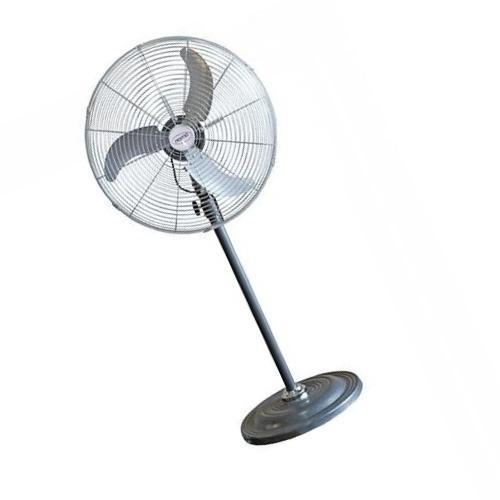fan: (17, 21, 474, 483)
